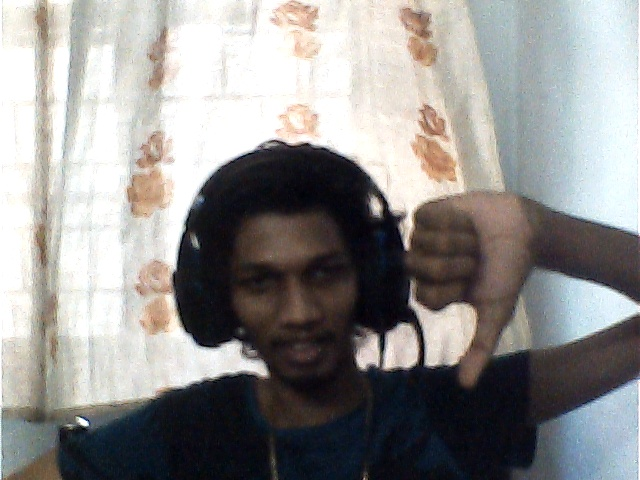ThumbsDown: (405, 191, 541, 388)
